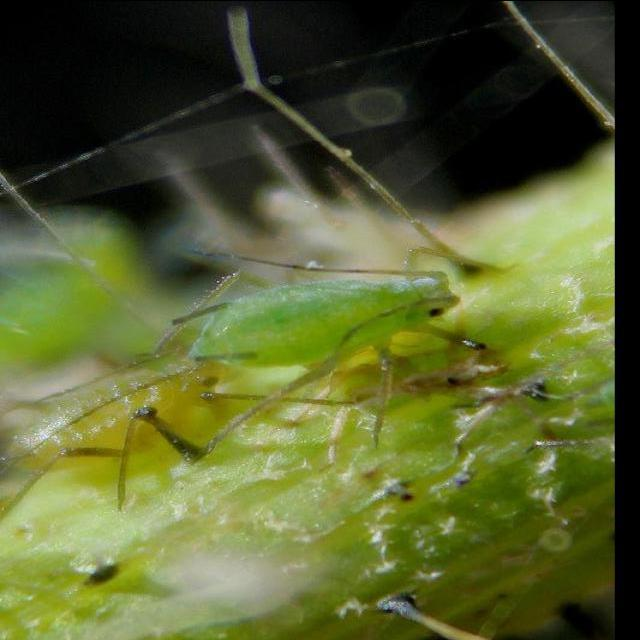aphid: (139, 224, 483, 410)
